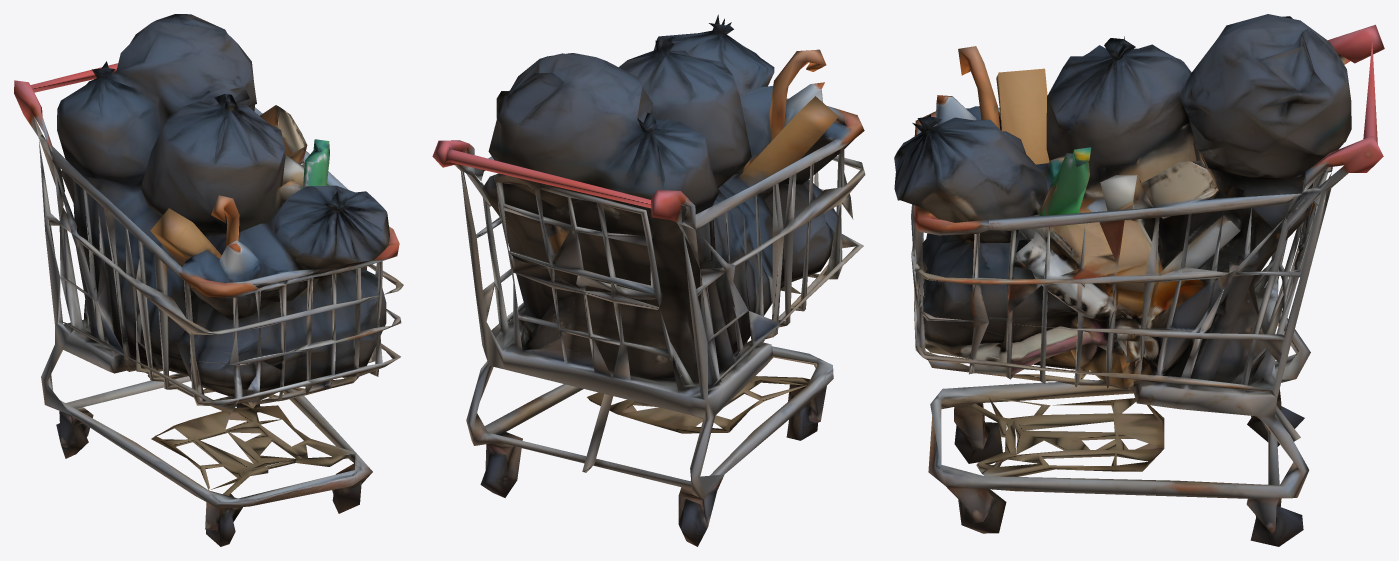
Rendered from carro.glb.
The picture shows the model from 3 angles, left to right: view 1: azimuth 30°, elevation 25°; view 2: azimuth 150°, elevation 25°; view 3: azimuth 270°, elevation 25°; orthographic projection. The views are drawn at different scales.
Parts seen in each view (by area): view 1: tripo_node_fedbd905-c41e-4eb1-9de3-14a20bb68406; view 2: tripo_node_fedbd905-c41e-4eb1-9de3-14a20bb68406; view 3: tripo_node_fedbd905-c41e-4eb1-9de3-14a20bb68406.
Boxes of the visible parts, box(x1,y1,x2,y2) form: tripo_node_fedbd905-c41e-4eb1-9de3-14a20bb68406: box(14, 14, 403, 546); tripo_node_fedbd905-c41e-4eb1-9de3-14a20bb68406: box(432, 14, 865, 546); tripo_node_fedbd905-c41e-4eb1-9de3-14a20bb68406: box(894, 14, 1384, 546).
Bounding box in the file's own units: 0.5358 × 0.983 × 0.9012.
1 material, 1 textured.
